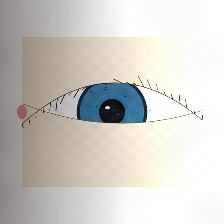pinguecula_lesion: (159, 100, 210, 141)
